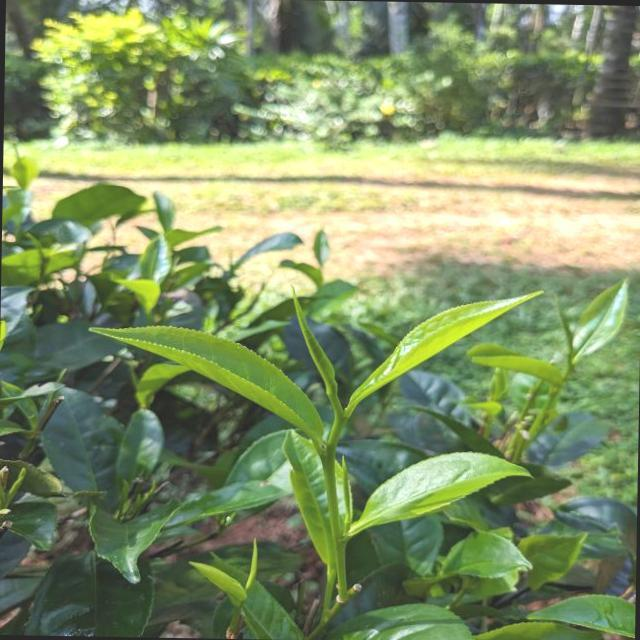Stem: (321, 446, 334, 466)
